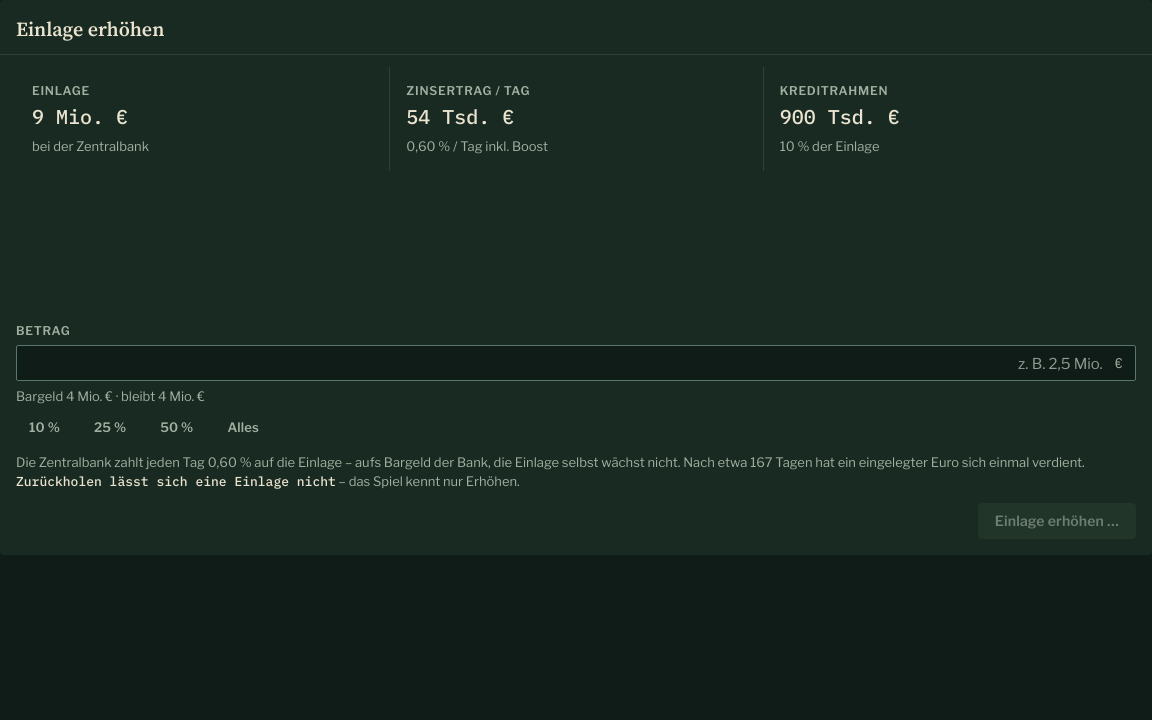
Test: ReservesCard › refuses more than the cash
Type "5 Mio." into the field labelled "Betrag" at (566, 363), box [17,346,1115,380]
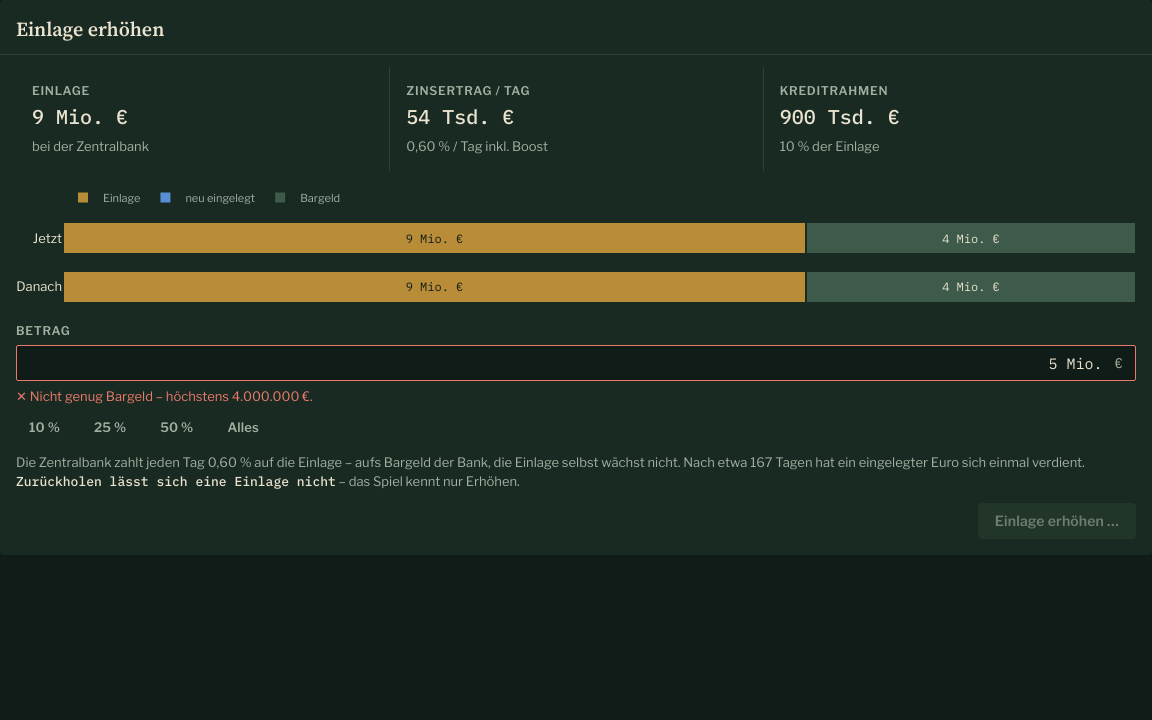
Expected: the button "Einlage erhöhen …" is disabled, [978,503,1136,539]
Expected: the text "✕ Nicht genug Bargeld – höchstens 4.000.000 €." is shown, [16,388,313,404]
